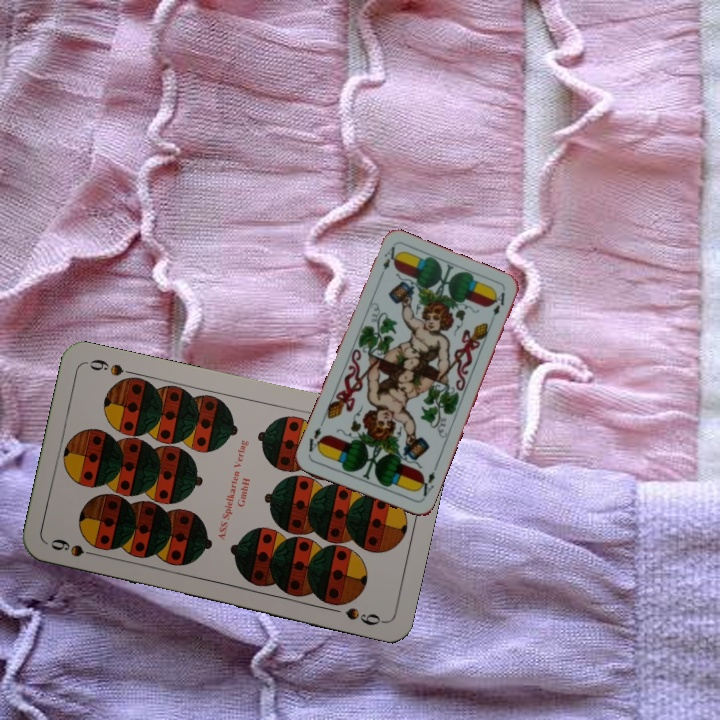EA: (414, 463, 440, 502), (376, 242, 401, 281)
S9: (46, 534, 104, 560)
